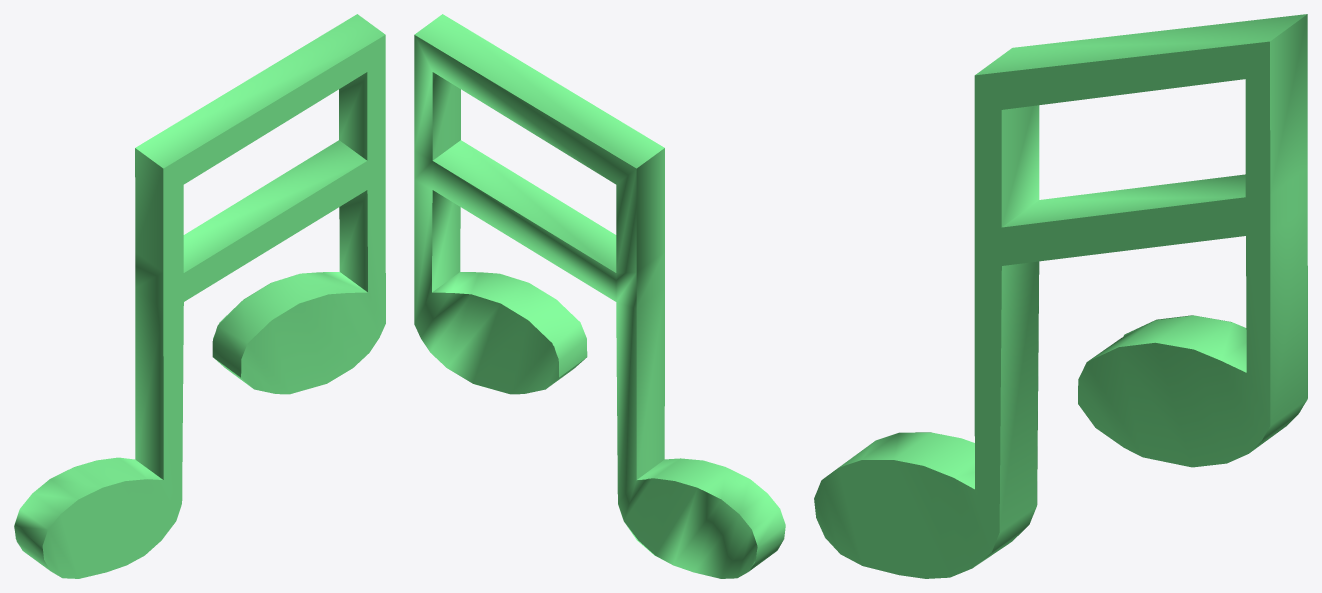
The model's file is MusicalNote_4_Green.fbx.
3 renders of one model, left to right at view 1: azimuth 30°, elevation 25°; view 2: azimuth 150°, elevation 25°; view 3: azimuth 330°, elevation 25°, orthographic. The views are drawn at different scales.
Visible parts, largest first — view 1: MusicalNote_4_Green; view 2: MusicalNote_4_Green; view 3: MusicalNote_4_Green.
Part boxes in pixels (x1,y1,x2,y2): MusicalNote_4_Green: [14, 14, 385, 578]; MusicalNote_4_Green: [414, 14, 785, 578]; MusicalNote_4_Green: [814, 14, 1307, 578].
Bounding box in the file's own units: 5.19 × 0.74 × 6.78.
